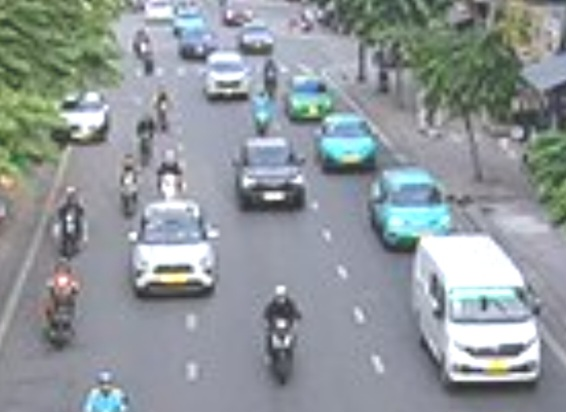car: (418, 236, 542, 385), (129, 202, 221, 298), (369, 166, 454, 247), (236, 137, 305, 210), (315, 113, 375, 171), (203, 53, 249, 101), (287, 74, 333, 121)
